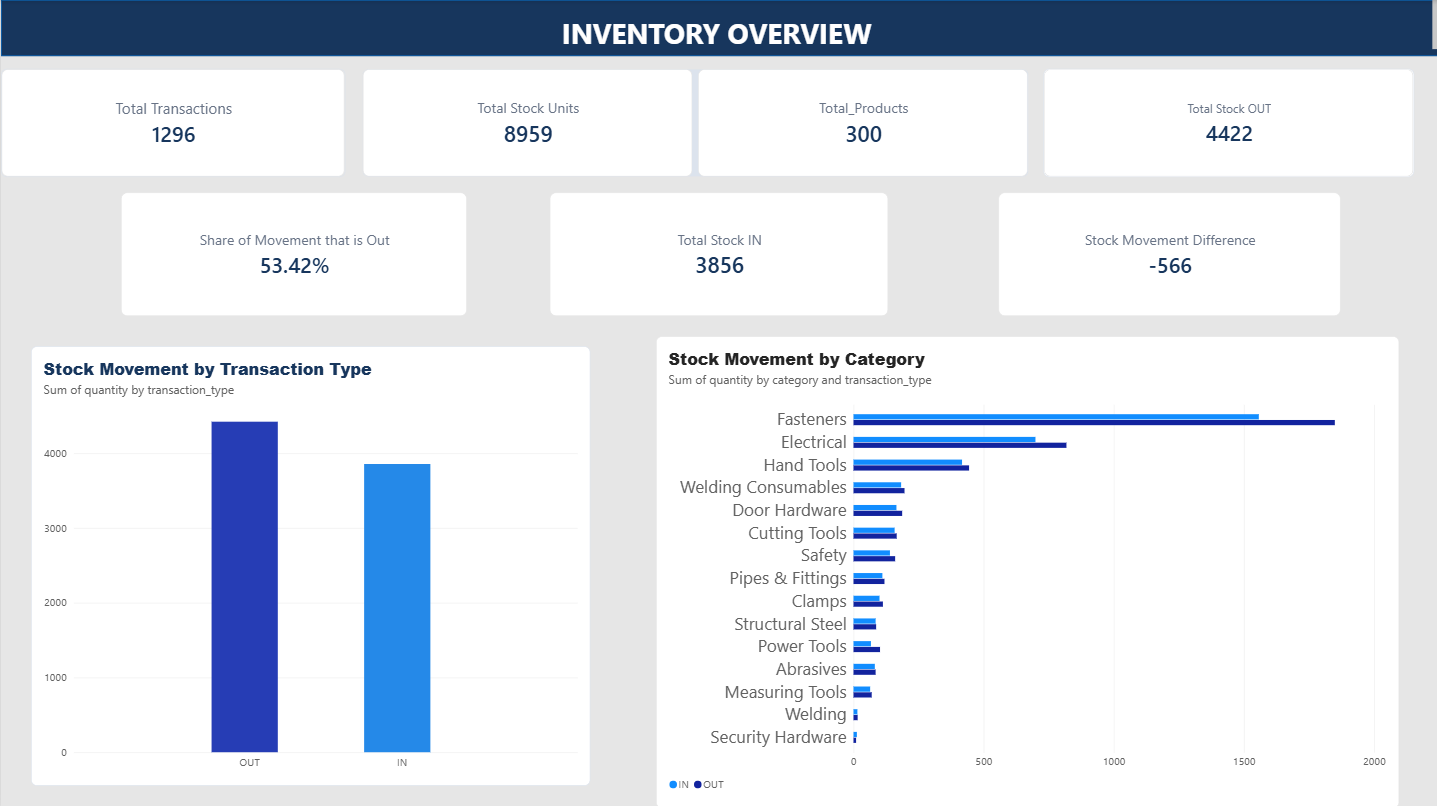

Layout of this report page (visuals, bound fields, positions):
{"tool":"powerbi","page":{"name":"INVENTORY OVERVIEW","canvas":[1920,1080],"ordinal":0},"visuals":[{"type":"cardVisual","fields":{"Data":["maharashtra_iron_works product_master.Total Stock Units","maharashtra_iron_works product_master.T Products"]},"box":[482.5,92.5,890,145],"z":0},{"type":"cardVisual","fields":{"Data":["maharashtra_iron_works transactions.Total Transactions"]},"box":[0,92.5,460,145],"z":1000},{"type":"clusteredColumnChart","title":"Stock Movement by Transaction Type","fields":{"Category":["maharashtra_iron_works transactions.transaction_type"],"Y":["Sum(maharashtra_iron_works transactions.quantity)"]},"box":[40,462.5,747.5,587.5],"z":2000},{"type":"cardVisual","fields":{"Data":["maharashtra_iron_works transactions.Total Stock OUT"]},"box":[1392.5,92.5,495,145],"z":3000},{"type":"clusteredBarChart","title":"Stock Movement by Category","fields":{"Category":["maharashtra_iron_works product_master.category"],"Series":["maharashtra_iron_works transactions.transaction_type"],"Y":["Sum(maharashtra_iron_works transactions.quantity)"]},"box":[875,450,992.5,630],"z":4000},{"type":"textbox","box":[0,0,1920,112.5],"z":5000},{"type":"cardVisual","fields":{"Data":["MySQL database.Total Stock IN"]},"box":[732.5,257.5,452.5,165],"z":6000},{"type":"cardVisual","fields":{"Data":["MySQL database.Stock Out %"]},"box":[160,257.5,462.5,165],"z":7000},{"type":"cardVisual","fields":{"Data":["MySQL database.Stock Movement Difference"]},"box":[1332.5,257.5,457.5,165],"z":8000},{"type":"shape","box":[0,0,1920,75],"z":8001},{"type":"textbox","box":[0,0,1920,75],"z":8002}]}

Visuals, with their boxes in screenshot pixels (x1, y1, x2, y2), scaled from the page's 1920x1080 canvas onto the 1437x806 screenshot:
cardVisual - maharashtra_iron_works product_master.Total Stock Units x maharashtra_iron_works product_master.T Products: rect(361, 69, 1027, 177)
cardVisual - maharashtra_iron_works transactions.Total Transactions: rect(0, 69, 344, 177)
"Stock Movement by Transaction Type" clusteredColumnChart: rect(30, 345, 589, 784)
cardVisual - maharashtra_iron_works transactions.Total Stock OUT: rect(1042, 69, 1413, 177)
"Stock Movement by Category" clusteredBarChart: rect(655, 336, 1398, 805)
textbox: rect(0, 0, 1436, 84)
cardVisual - MySQL database.Total Stock IN: rect(548, 192, 887, 315)
cardVisual - MySQL database.Stock Out %: rect(120, 192, 466, 315)
cardVisual - MySQL database.Stock Movement Difference: rect(997, 192, 1340, 315)
shape: rect(0, 0, 1436, 56)
textbox: rect(0, 0, 1436, 56)
